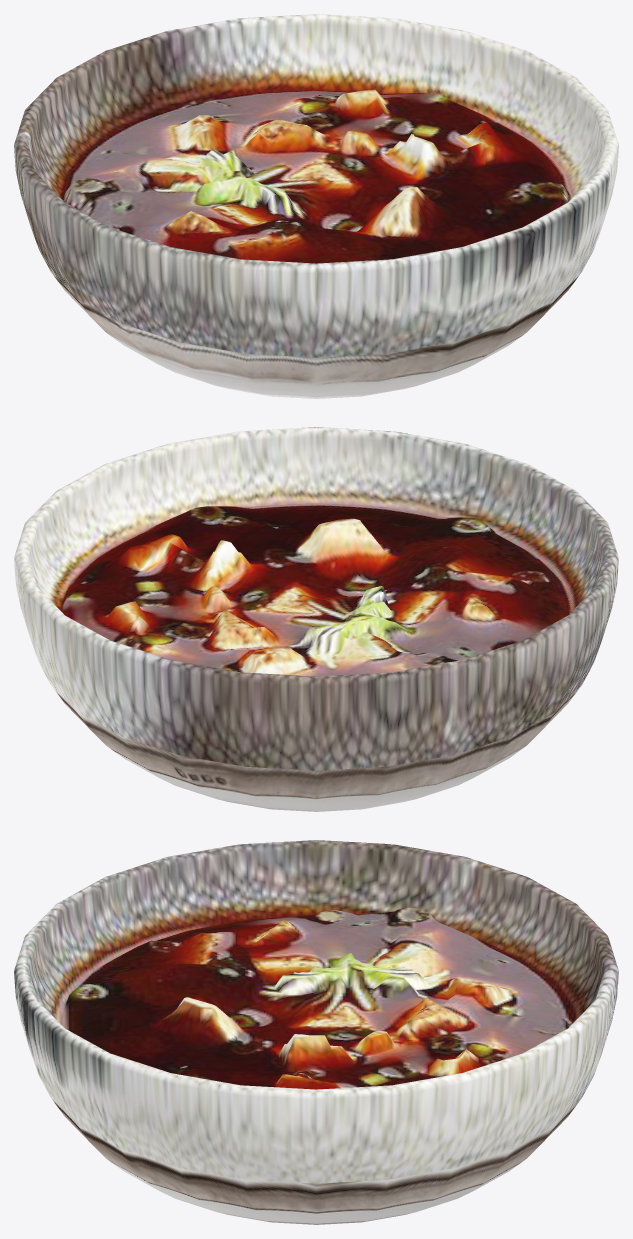
The model's file is soup.glb.
3 views of the same model, one above another, from view 1: azimuth 30°, elevation 25°; view 2: azimuth 150°, elevation 25°; view 3: azimuth 270°, elevation 25° (orthographic).
Parts seen in each view (by area): view 1: Material2, Material3; view 2: Material2, Material3; view 3: Material2, Material3.
Boxes of the visible parts, x1,y1,x2,y2 form: Material2: [14, 14, 618, 357]; Material3: [51, 272, 581, 398]; Material2: [14, 427, 618, 770]; Material3: [51, 685, 581, 811]; Material2: [14, 840, 618, 1183]; Material3: [51, 1098, 581, 1224].
Size of the model in its own units: 32.67 by 12.08 by 32.67.
Materials: 4 (2 with a texture image).
